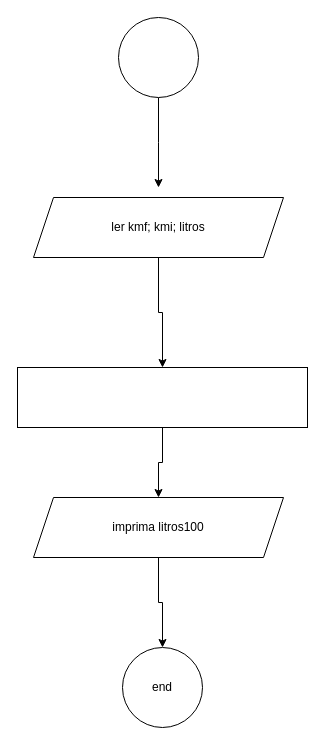
Image size: 325x745. Some labels were removed from this diagram. Each missing label, with the centre of its shape:
Inicio: point (158, 57)
listros100 = litros * 100 / (kmf - kmi): point (162, 397)
